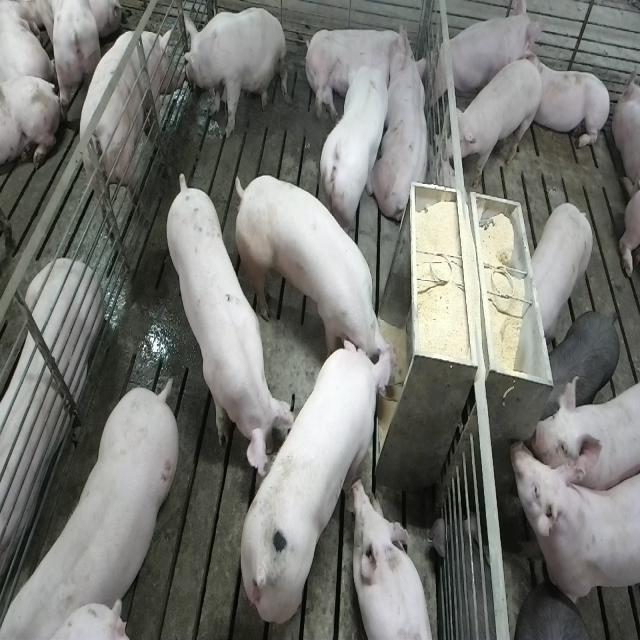Feeding: (238, 339, 398, 625), (241, 170, 400, 384)
Lateral_lying: (305, 16, 417, 122)
Sitting: (180, 7, 286, 141), (376, 27, 434, 229), (434, 0, 543, 98)
Standing: (5, 375, 184, 635), (160, 175, 290, 482), (507, 435, 638, 610), (81, 27, 183, 236), (536, 371, 640, 494), (319, 59, 389, 235), (448, 59, 544, 185), (530, 200, 595, 341), (538, 309, 622, 416), (518, 588, 606, 640)
Sternal_lying: (0, 261, 100, 594), (351, 482, 436, 640), (524, 51, 612, 153)
